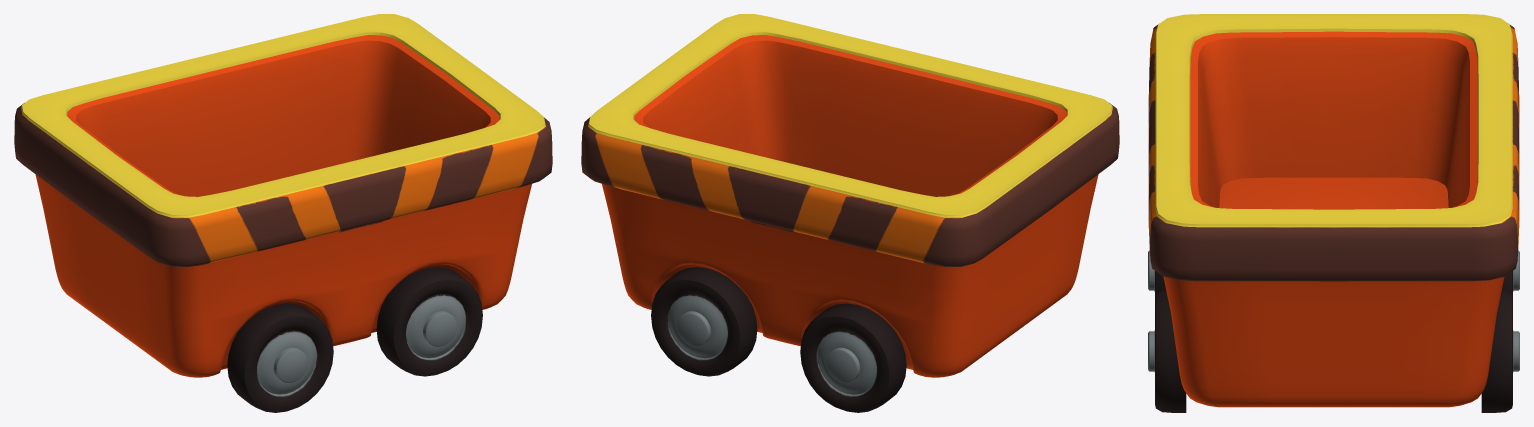
The model's file is xiaohuoche_2.FBX.
The picture shows the model from 3 angles, left to right: view 1: azimuth 30°, elevation 25°; view 2: azimuth 150°, elevation 25°; view 3: azimuth 270°, elevation 25°; orthographic projection. The views are drawn at different scales.
Visible parts, largest first — view 1: xiaohuoche_2; view 2: xiaohuoche_2; view 3: xiaohuoche_2.
Part boxes in pixels (x1,y1,x2,y2): xiaohuoche_2: [14, 14, 552, 412]; xiaohuoche_2: [581, 14, 1119, 412]; xiaohuoche_2: [1148, 14, 1519, 412].
Bounding box in the file's own units: 128 × 68.41 × 93.11.
1 material, 1 textured.
